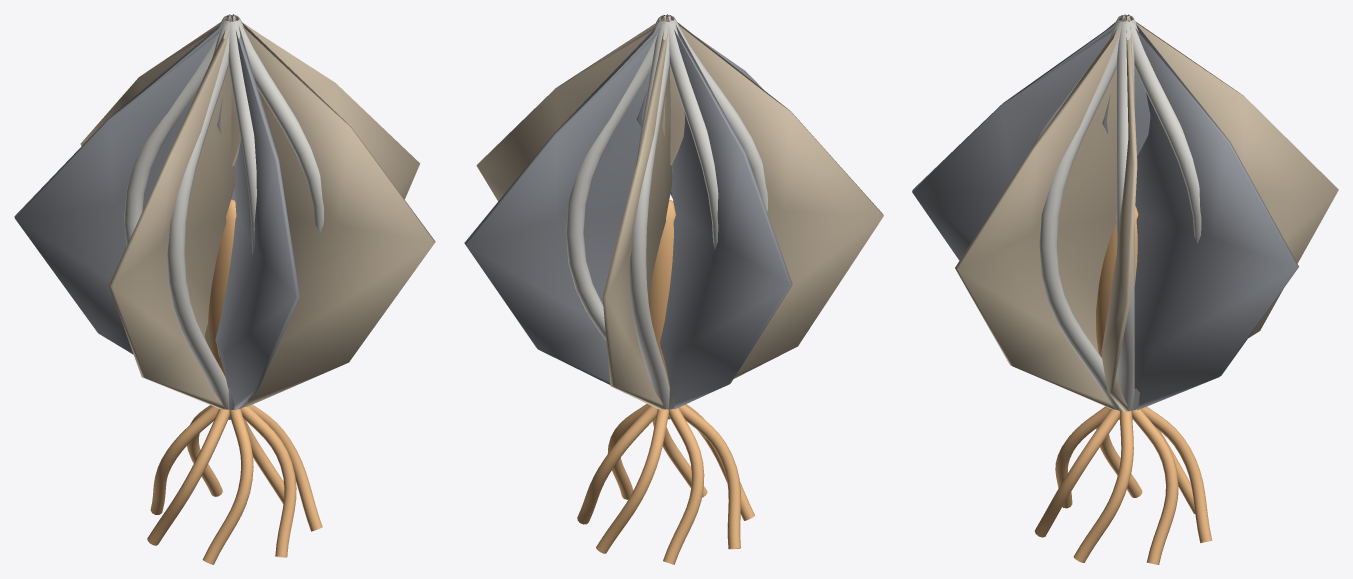
File: bio_lantern_sail_10_near.glb
3 views of the same model, side by side, from view 1: azimuth 30°, elevation 25°; view 2: azimuth 150°, elevation 25°; view 3: azimuth 270°, elevation 25° (orthographic).
Parts seen in each view (by area): view 1: Ribbed sensory membrane.006, Ribbed sensory membrane.004, Ribbed sensory membrane.003, Ribbed sensory membrane.005, Membrane leading seam.004, Ribbed sensory membrane, Membrane leading seam.006, Membrane leading seam.003, Membrane leading seam.005, Trailing electroreceptor.004, Trailing electroreceptor.005, Trailing electroreceptor.003 (+6 smaller); view 2: Ribbed sensory membrane.001, Ribbed sensory membrane.003, Ribbed sensory membrane.004, Ribbed sensory membrane.002, Ribbed sensory membrane, Membrane leading seam.002, Membrane leading seam.001, Membrane leading seam.003, Trailing electroreceptor.002, Buoyancy spindle, Trailing electroreceptor.003, Trailing electroreceptor.001 (+5 smaller); view 3: Ribbed sensory membrane.001, Ribbed sensory membrane.006, Ribbed sensory membrane.005, Ribbed sensory membrane.002, Membrane leading seam.006, Ribbed sensory membrane, Membrane leading seam, Membrane leading seam.001, Trailing electroreceptor, Trailing electroreceptor.006, Trailing electroreceptor.001, Trailing electroreceptor.005 (+4 smaller).
Boxes of the visible parts, <box> form: Ribbed sensory membrane.006: <box>205,14,435,407</box>; Ribbed sensory membrane.004: <box>109,16,235,409</box>; Ribbed sensory membrane.003: <box>14,17,236,354</box>; Ribbed sensory membrane.005: <box>215,15,299,410</box>; Membrane leading seam.004: <box>167,20,234,419</box>; Ribbed sensory membrane: <box>217,14,420,361</box>; Membrane leading seam.006: <box>233,17,323,408</box>; Membrane leading seam.003: <box>124,17,226,246</box>; Membrane leading seam.005: <box>226,21,256,419</box>; Trailing electroreceptor.004: <box>202,409,253,564</box>; Trailing electroreceptor.005: <box>240,406,296,557</box>; Trailing electroreceptor.003: <box>147,409,229,545</box>; Ribbed sensory membrane.001: <box>464,16,673,384</box>; Ribbed sensory membrane.003: <box>660,15,792,409</box>; Ribbed sensory membrane.004: <box>667,14,883,378</box>; Ribbed sensory membrane.002: <box>602,16,672,409</box>; Ribbed sensory membrane: <box>476,16,684,201</box>; Membrane leading seam.002: <box>629,20,672,409</box>; Membrane leading seam.001: <box>565,17,664,340</box>; Membrane leading seam.003: <box>663,19,718,419</box>; Trailing electroreceptor.002: <box>663,408,704,564</box>; Buoyancy spindle: <box>648,200,675,388</box>; Trailing electroreceptor.003: <box>679,404,740,549</box>; Trailing electroreceptor.001: <box>596,409,668,553</box>; Ribbed sensory membrane.001: <box>1126,14,1298,410</box>; Ribbed sensory membrane.006: <box>955,16,1128,409</box>; Ribbed sensory membrane.005: <box>912,16,1150,260</box>; Ribbed sensory membrane.002: <box>1124,14,1338,337</box>; Membrane leading seam.006: <box>1039,18,1126,419</box>; Ribbed sensory membrane: <box>1101,16,1137,412</box>; Membrane leading seam: <box>1116,21,1134,411</box>; Membrane leading seam.001: <box>1125,18,1201,419</box>; Trailing electroreceptor: <box>1131,409,1178,564</box>; Trailing electroreceptor.006: <box>1073,411,1133,562</box>; Trailing electroreceptor.001: <box>1141,406,1212,543</box>; Trailing electroreceptor.005: <box>1034,409,1119,537</box>.
Bounding box in the file's own units: 2.31 × 3.15 × 2.36.
